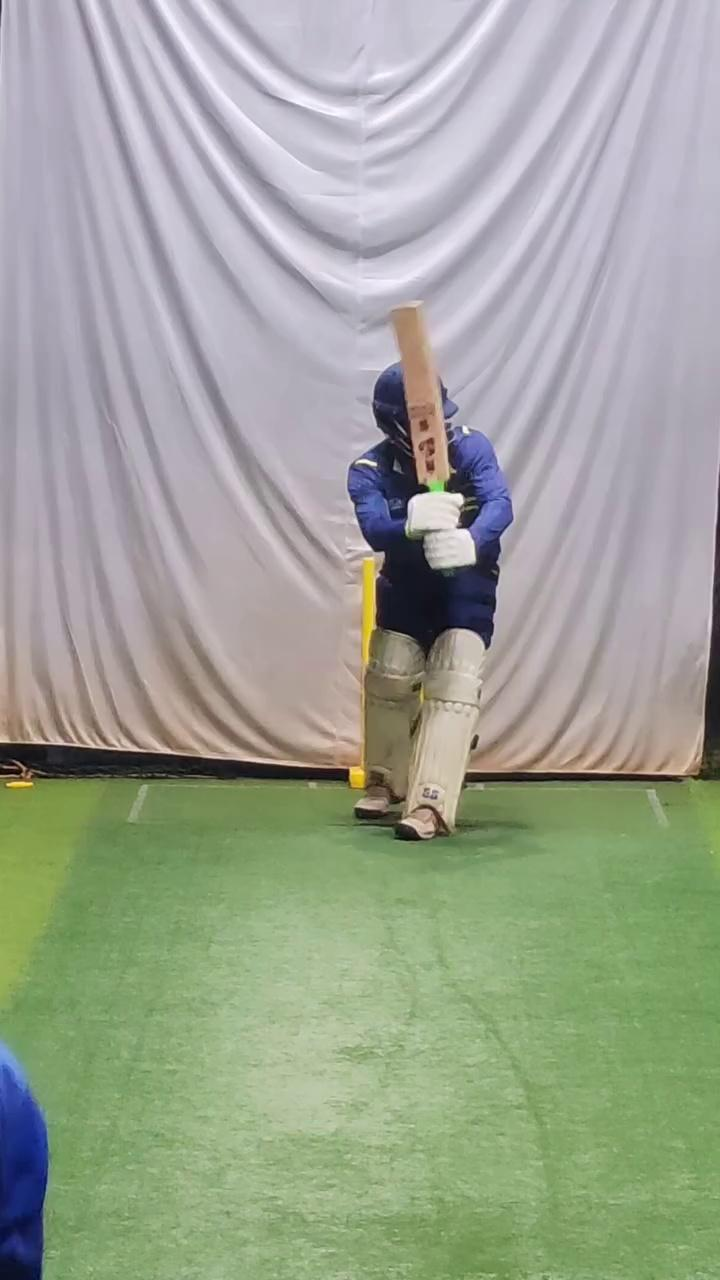bat: (388, 302, 453, 484)
